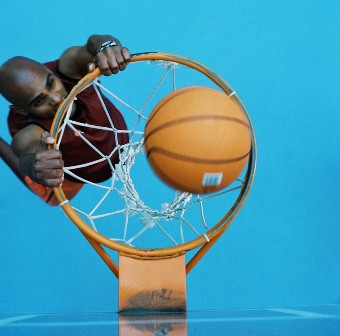basketball: (144, 87, 252, 194)
